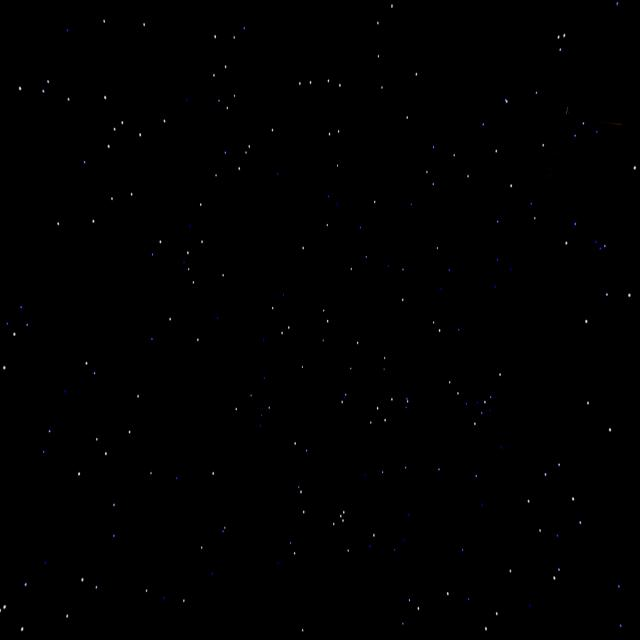medium_debris: (506, 77, 614, 192)
